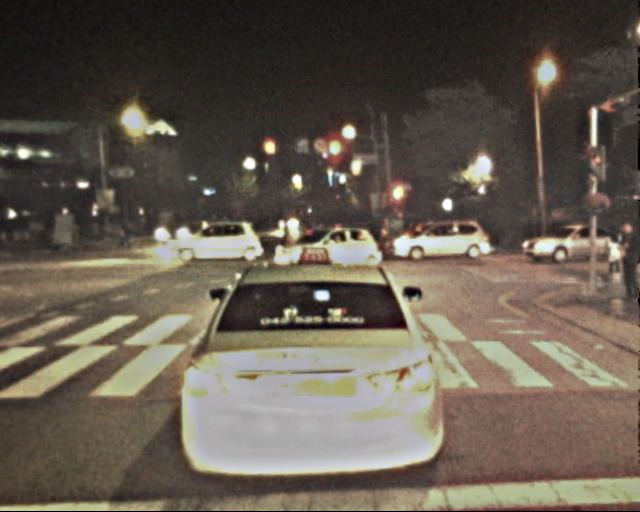person: (615, 221, 640, 303), (599, 229, 620, 281), (118, 216, 134, 256), (186, 213, 216, 232), (274, 214, 288, 249), (162, 214, 175, 246), (301, 222, 324, 236)
